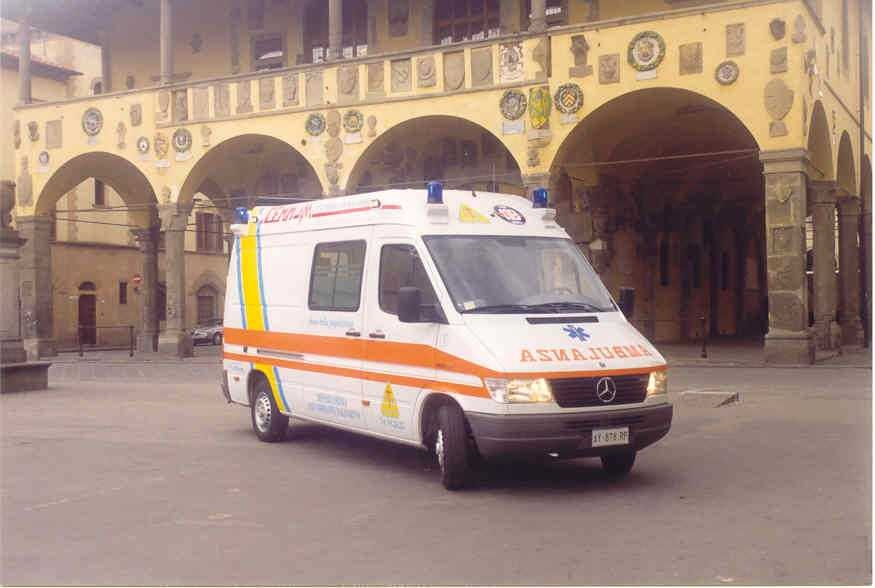Ambulance: (227, 165, 666, 492)
